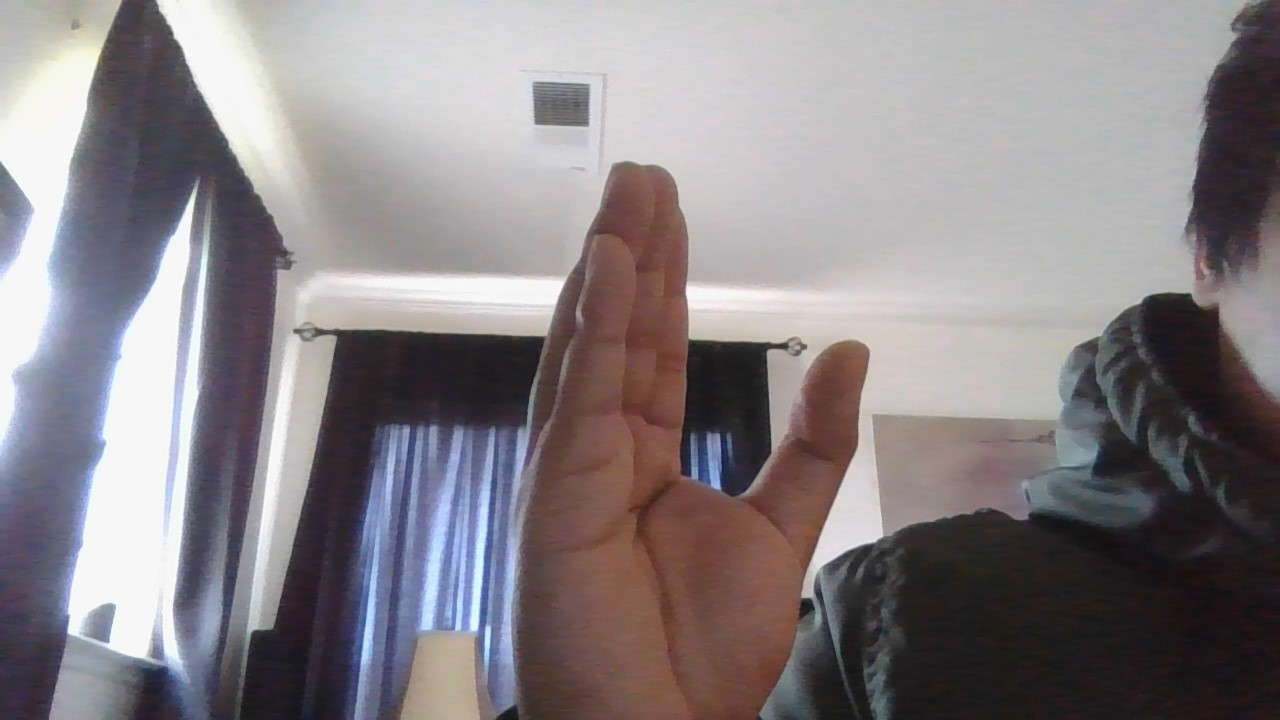j: (470, 122, 902, 720)
